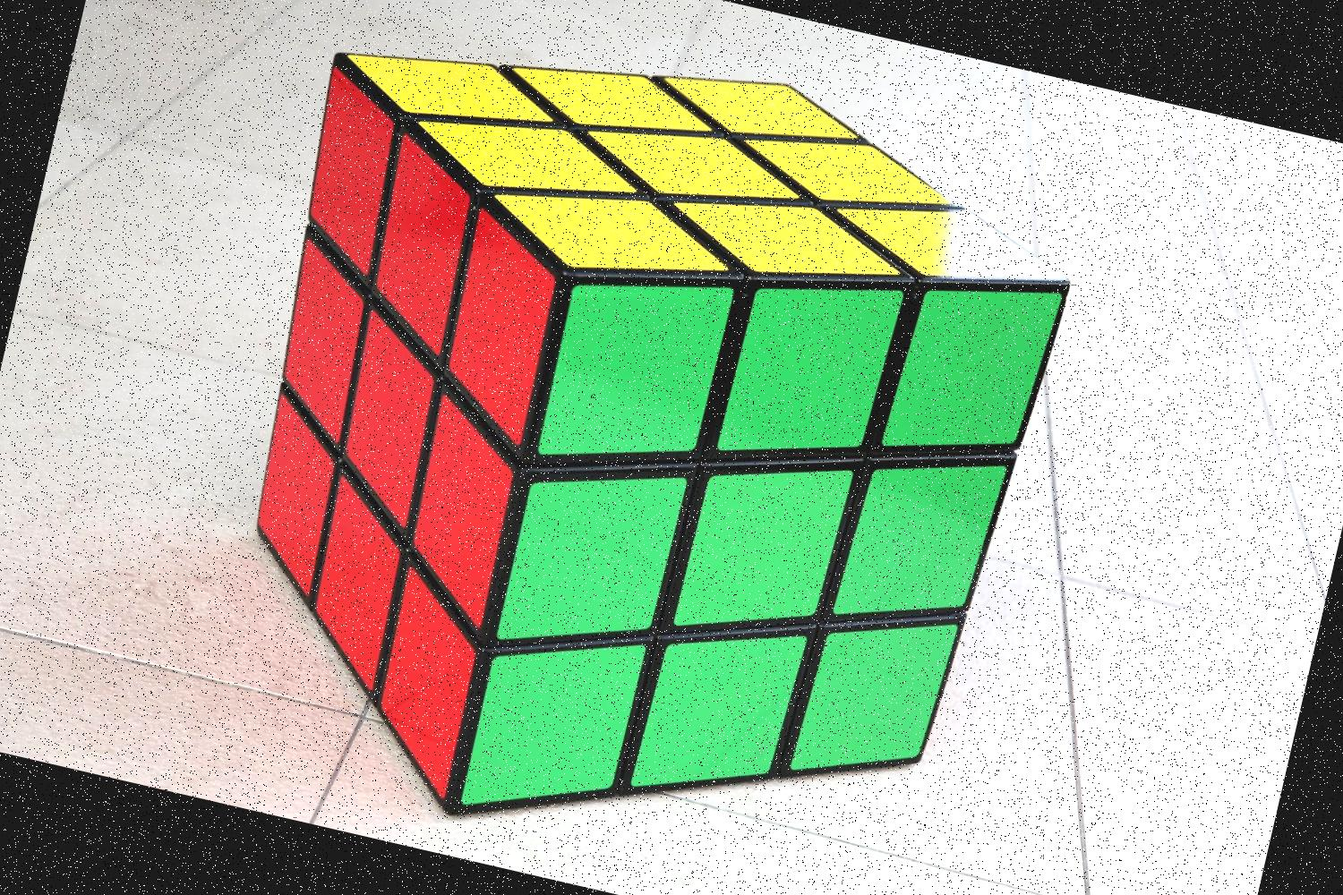rubiks_cube: (258, 55, 1061, 804)
